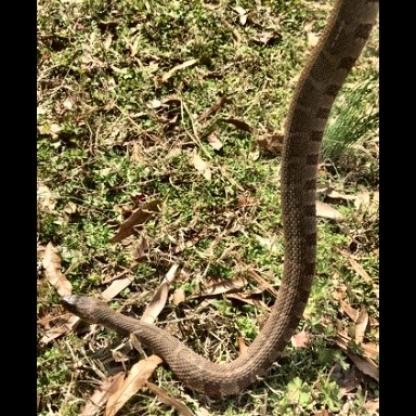Snake: (239, 4, 369, 389)
